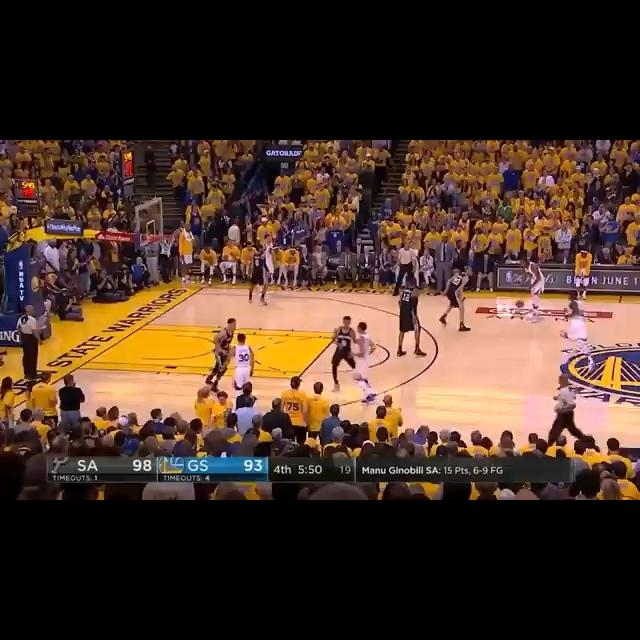basketball: (513, 296, 527, 313)
hoop: (155, 231, 177, 258)
